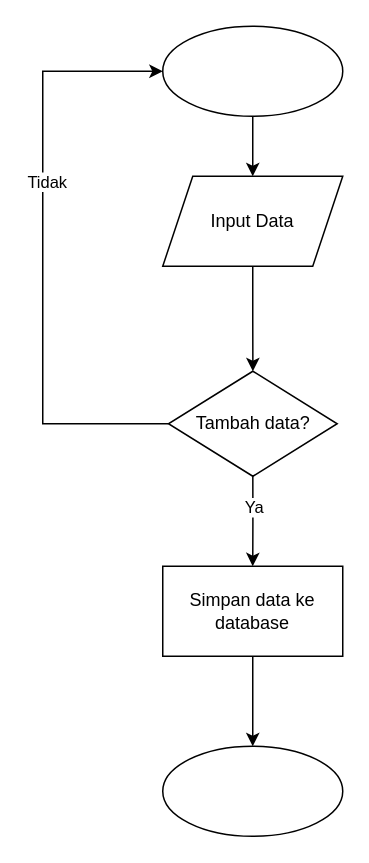
Image size: 369x863. Some labels were removed from this diagram. Here are the shapes that lost their labels. From the top down, the centre of each, then its label:
At (x=252, y=70): "Mulai".
At (x=252, y=790): "Selesai".
